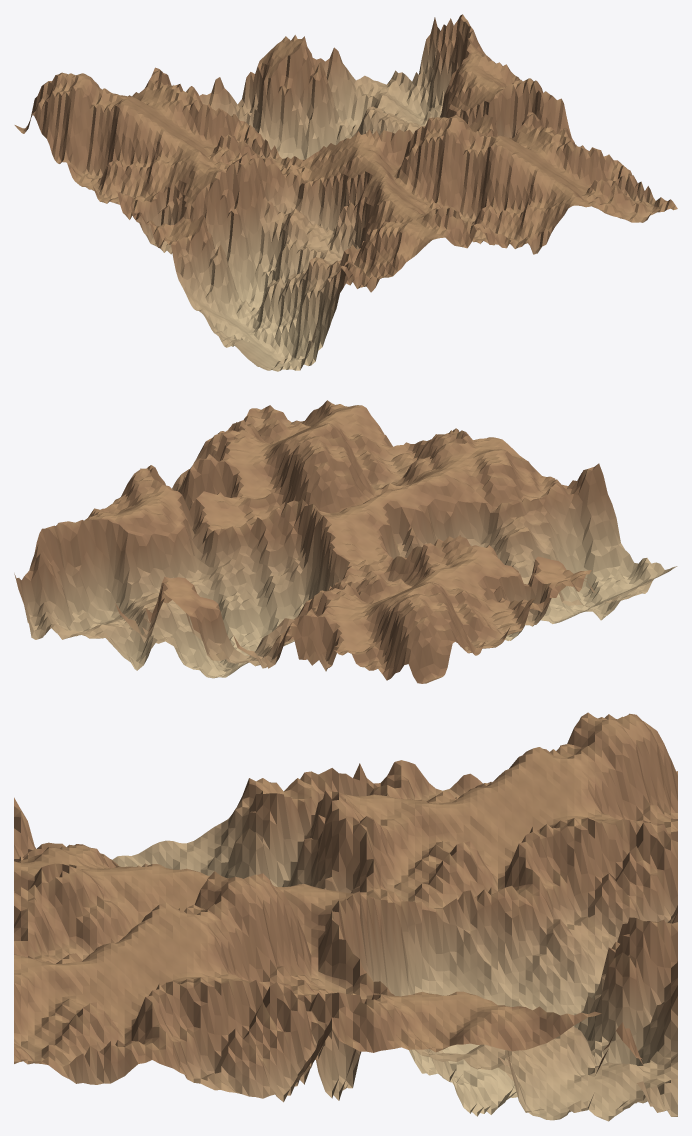
File: desert_lod0.glb
3 views of the same model, one above another, from view 1: azimuth 30°, elevation 25°; view 2: azimuth 150°, elevation 25°; view 3: azimuth 270°, elevation 25° (orthographic). The views are drawn at different scales.
Visible parts, largest first — view 1: world; view 2: world; view 3: world.
Part boxes in pixels (<box>): world: <box>14,14,677,371</box>; world: <box>14,400,677,683</box>; world: <box>14,712,677,1121</box>.
Size of the model in its own units: 2 by 0.7736 by 2.
